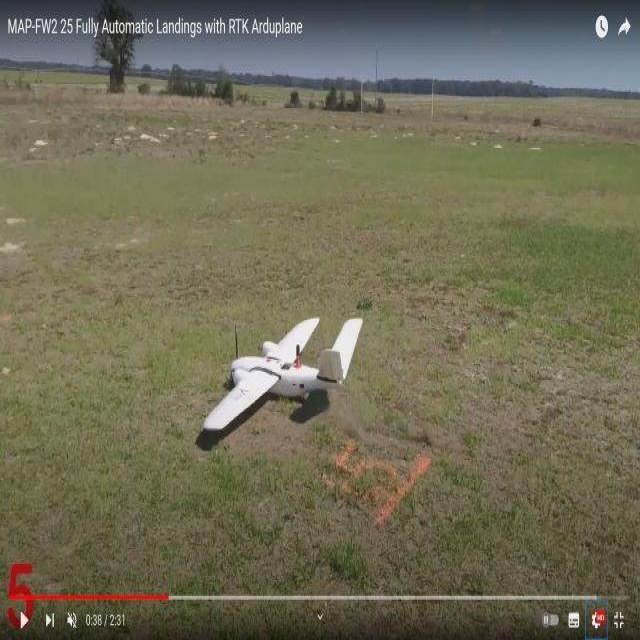iha: (202, 342, 366, 402)
